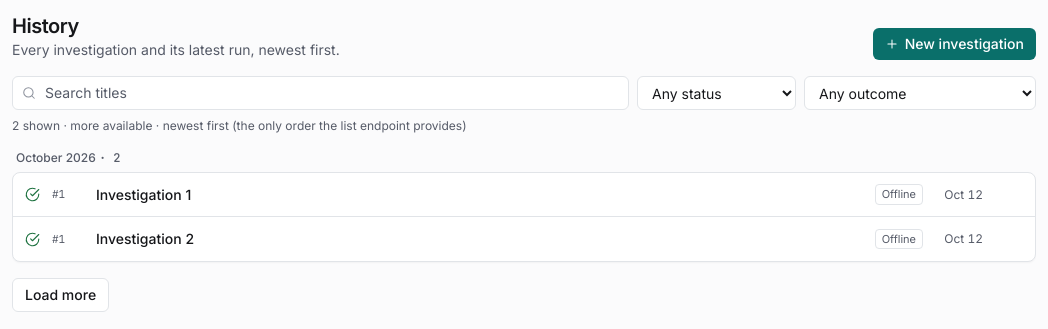
Test: pages load with the cursor returned by the previous page
Expected: the link "Investigation 2" is shown, left=96, top=230, right=194, bottom=247
Click the button "Load more": (61, 295) left=12, top=278, right=109, bottom=312
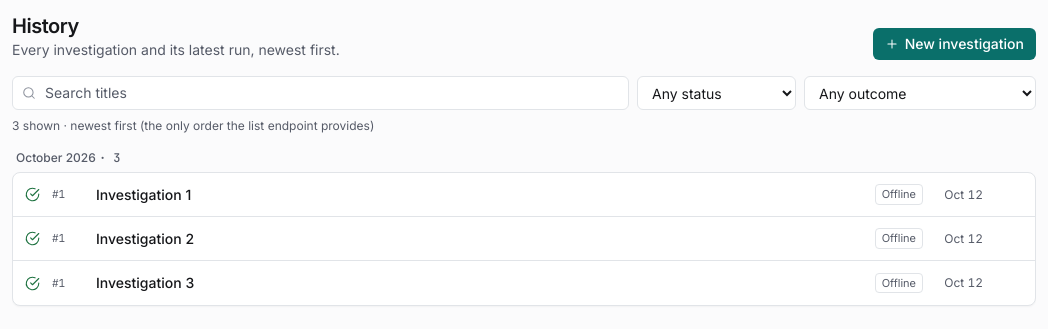
Expected: the link "Investigation 3" is shown, left=96, top=274, right=194, bottom=291
Expected: the button "Load more" is gone
